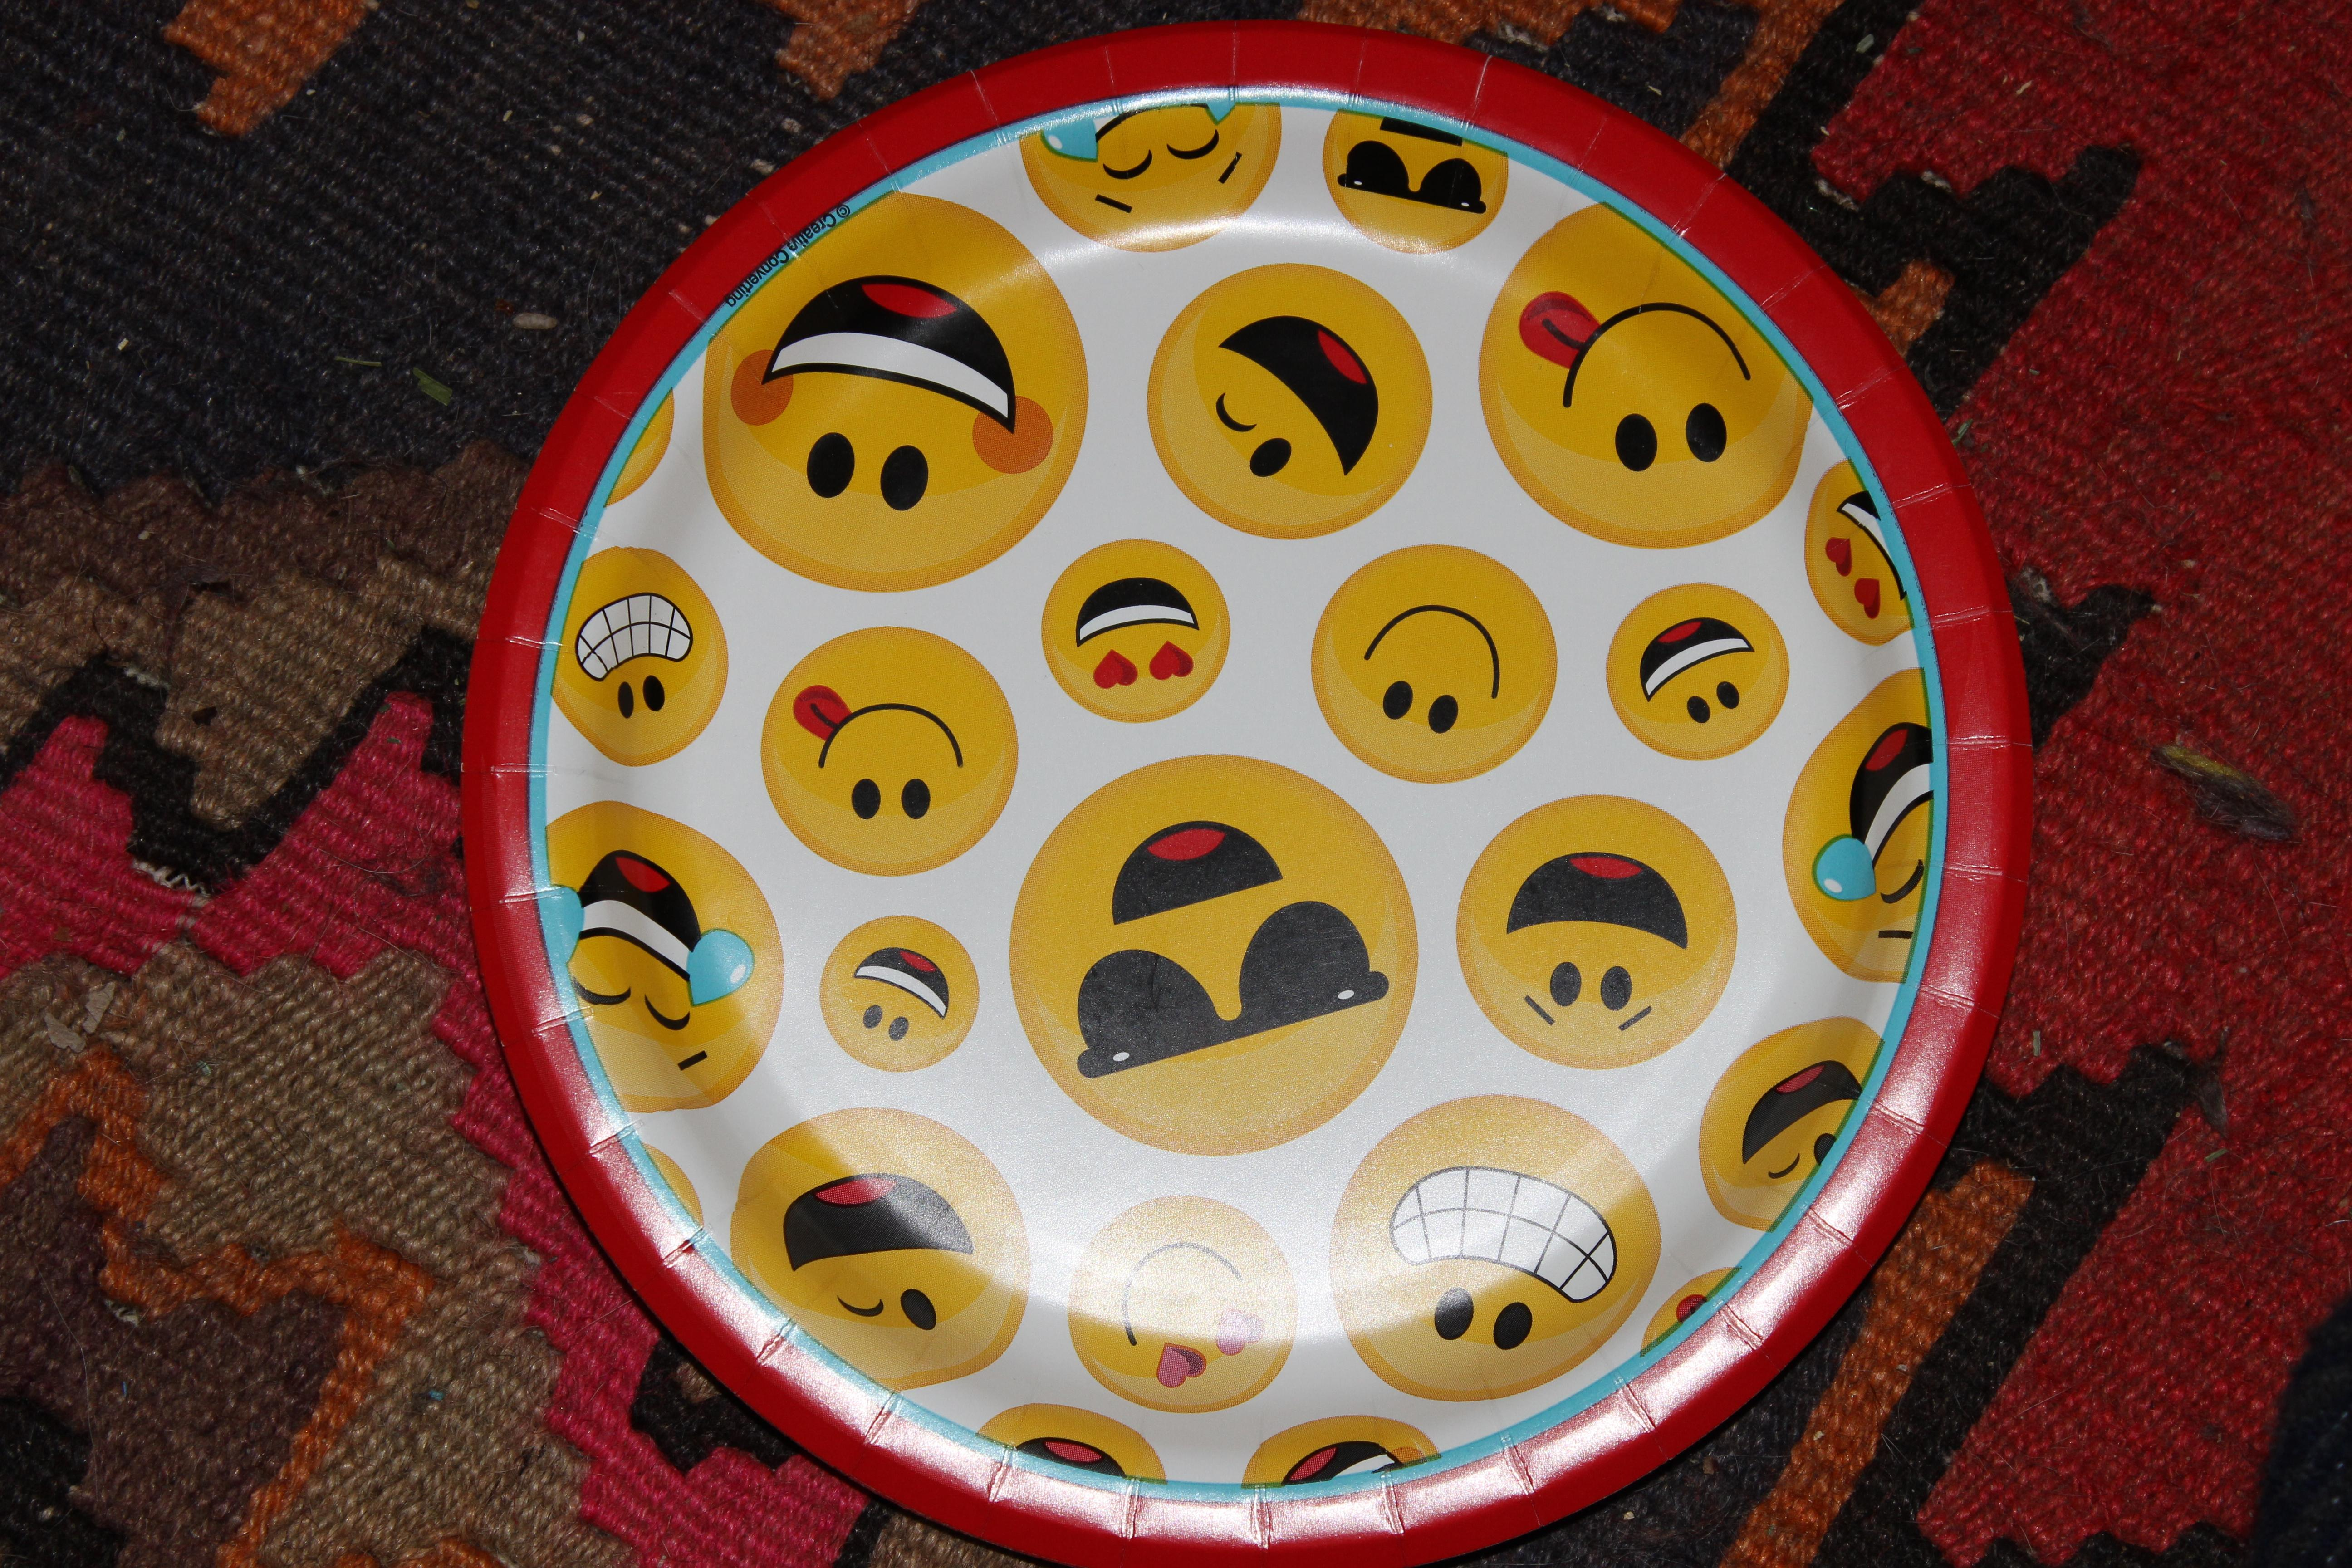paperPlate: (416, 14, 2077, 1568)
